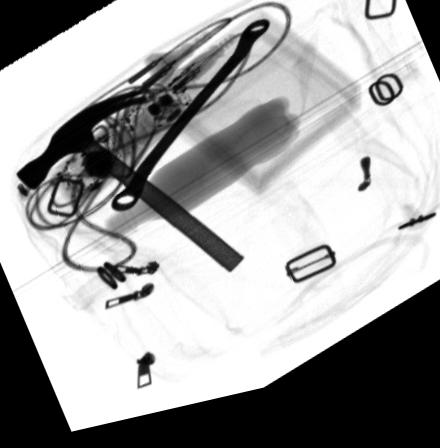Hammer: (14, 97, 245, 282)
Wrench: (110, 31, 270, 216)
